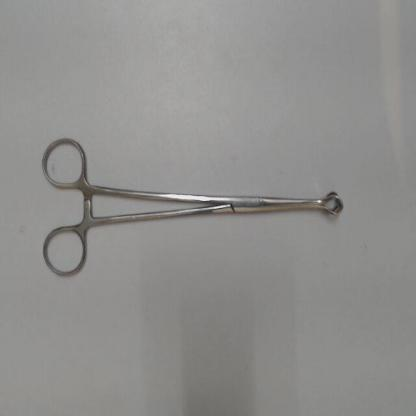8 Babcock Tissue Forceps: (40, 130, 352, 283)
